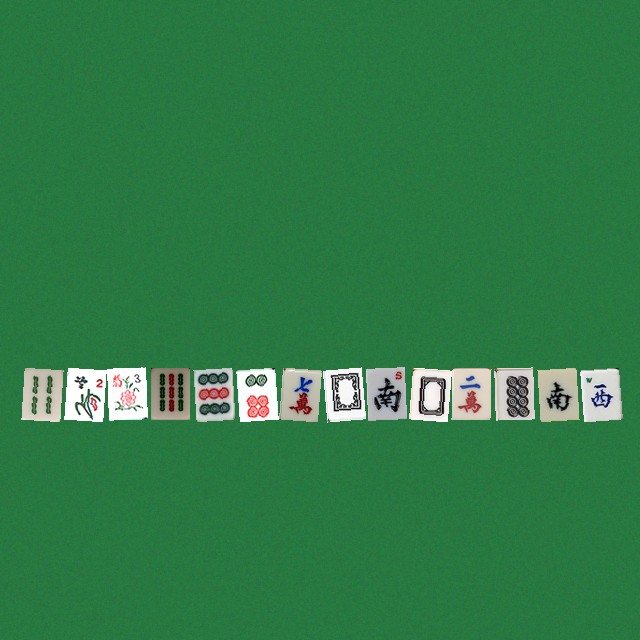tile: (21, 367, 60, 419), (64, 367, 103, 419), (107, 367, 146, 419), (150, 367, 189, 419), (193, 367, 232, 419), (236, 367, 275, 419), (279, 367, 318, 419), (322, 367, 361, 419), (365, 367, 404, 419), (408, 367, 447, 419), (451, 367, 490, 419), (494, 367, 533, 419), (537, 367, 576, 419), (580, 367, 619, 419)
